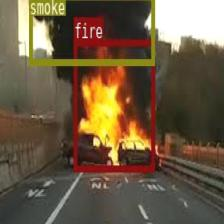fire: (73, 38, 154, 171)
smoke: (28, 0, 153, 65)
